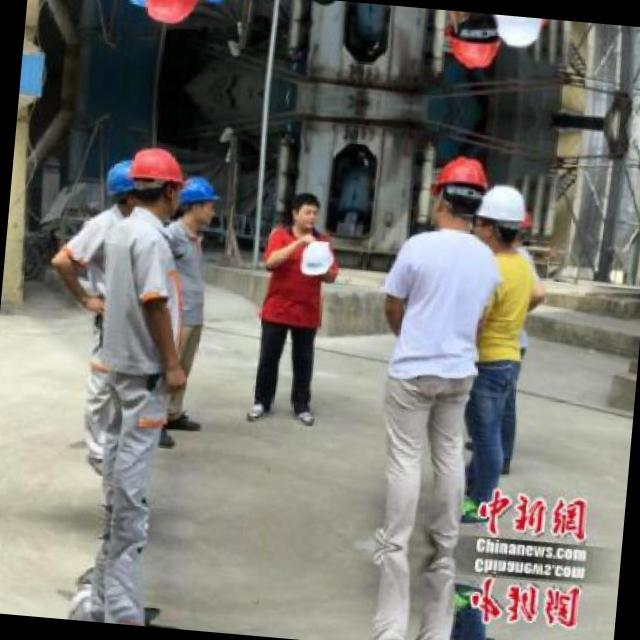helmet: (426, 150, 490, 233), (126, 140, 189, 220), (472, 173, 526, 251), (440, 9, 502, 72), (175, 168, 223, 232), (100, 155, 148, 216), (488, 14, 540, 56), (141, 0, 203, 30), (194, 0, 240, 9), (117, 0, 163, 8)
